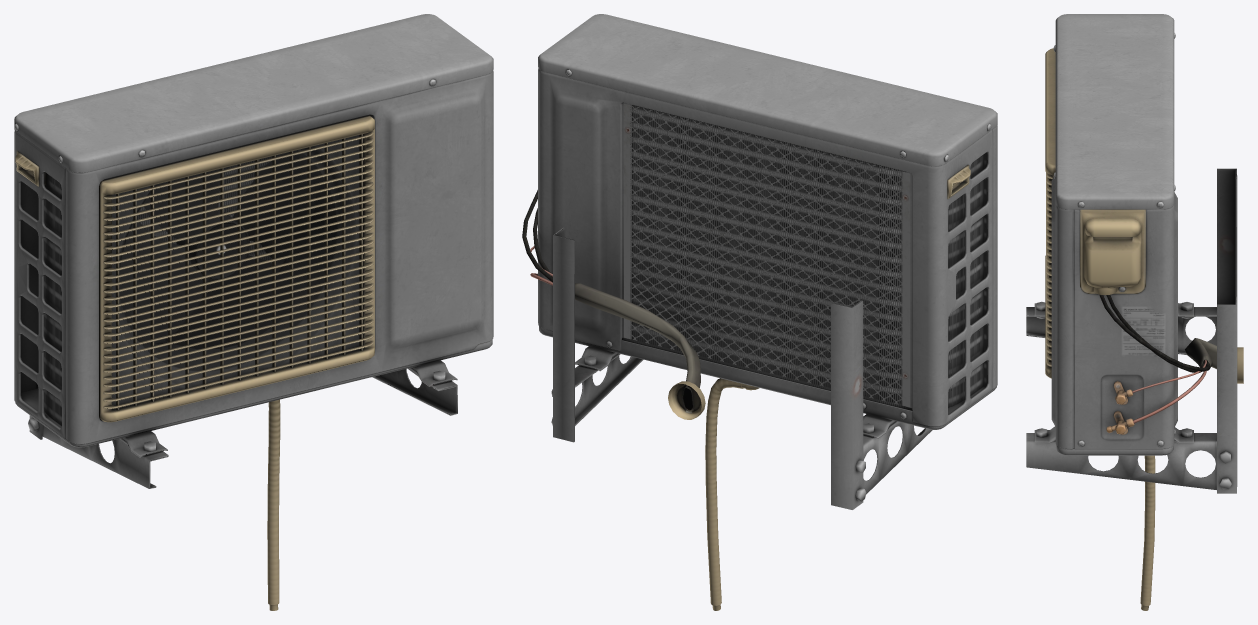
Rendered from aircon-candidate.glb.
3 views of the same model, side by side, from view 1: azimuth 30°, elevation 25°; view 2: azimuth 150°, elevation 25°; view 3: azimuth 270°, elevation 25° (orthographic). The views are drawn at different scales.
Visible parts, largest first — view 1: CandidateAircon; view 2: CandidateAircon; view 3: CandidateAircon.
Part boxes in pixels (bbox=[...]): CandidateAircon: bbox=[14, 14, 493, 610]; CandidateAircon: bbox=[522, 14, 997, 610]; CandidateAircon: bbox=[1026, 14, 1243, 610].
Bounding box in the file's own units: 0.8 × 0.9279 × 0.3742.
Materials: 2 (2 with a texture image).
